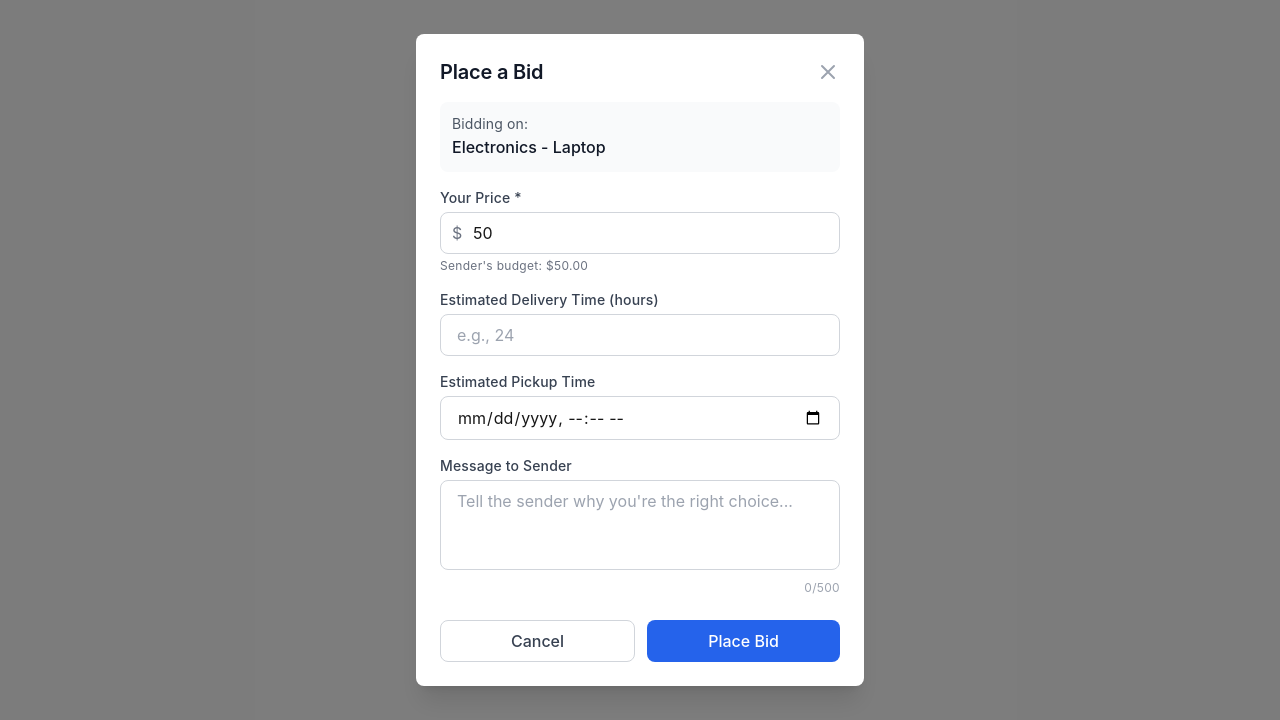
Test: BidModal Component › Form Fields › updates character count as user types
Type "Hello sender!" into the text box labelled "Message to Sender". click: (640, 525)
box: x1=440 y1=480 x2=840 y2=570
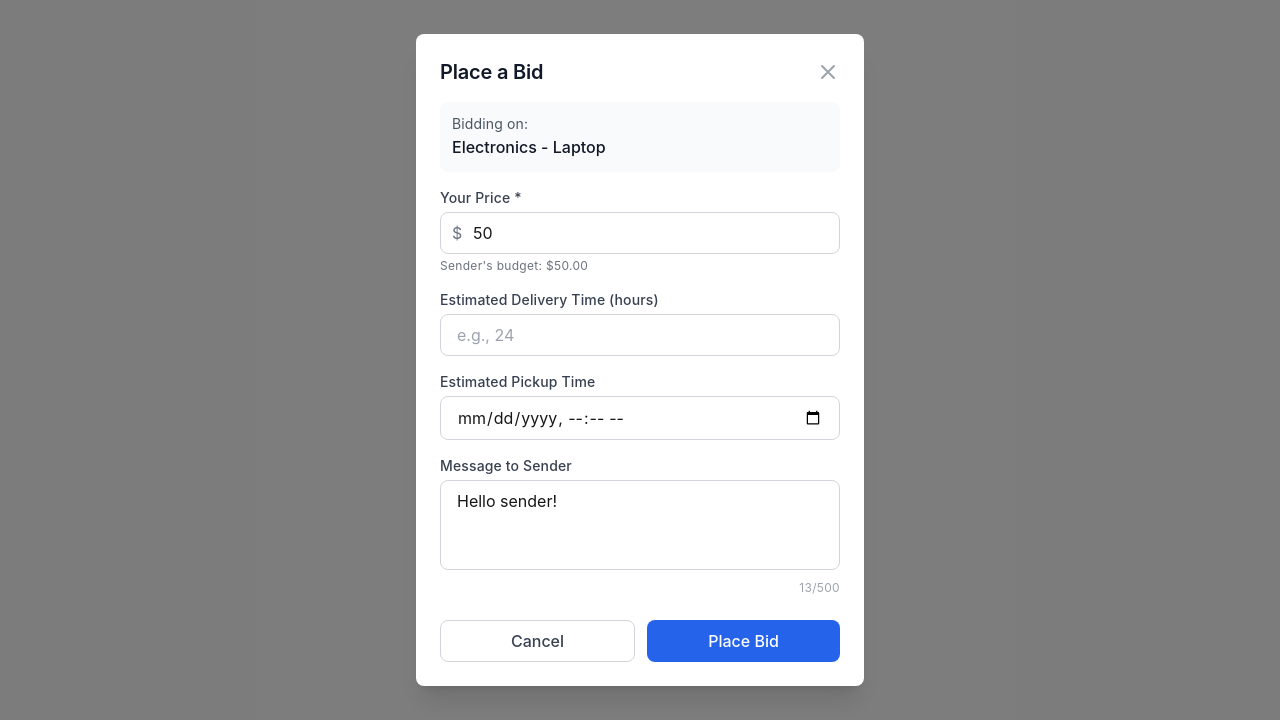
Expected: the text "13/500" is shown, x1=799 y1=580 x2=840 y2=595
